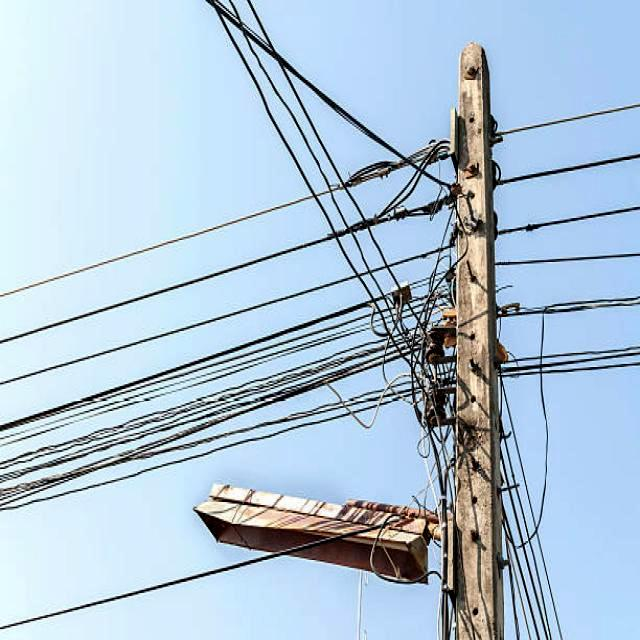Broken Pole: (184, 4, 518, 640)
